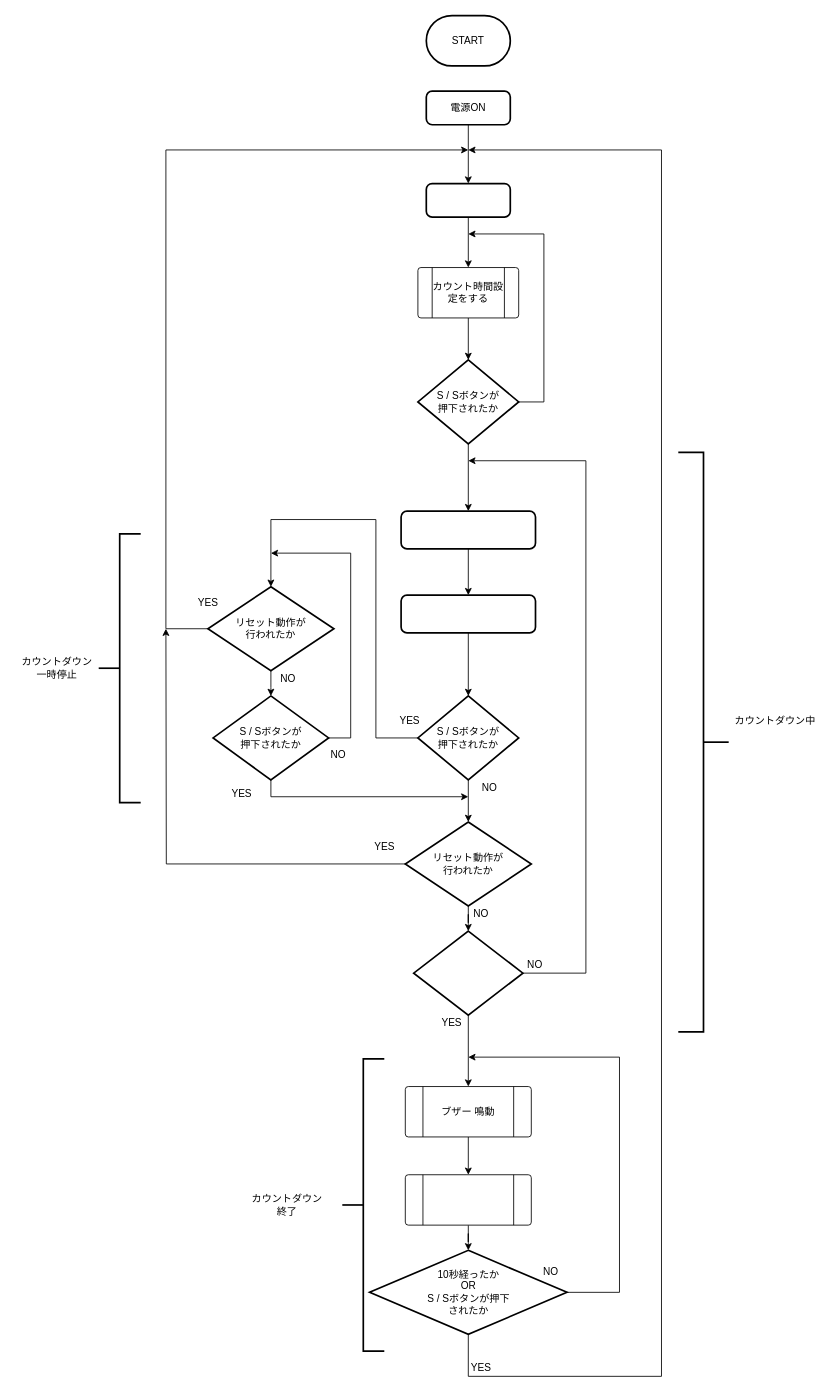
Image size: 835x1398. Some labels were removed from this diagram. The shapes that lost their labels are listed below. From the top down, each one's centre as x and y in pixels, then its label:
At point (468, 200): "LCDに00m00sを 表示する".
At point (468, 529): "1秒 カウントダウンする".
At point (468, 613): "1秒 待つ".
At point (467, 973): "カウント時間が 00m00sか".
At point (467, 1199): "LCD 点滅".
